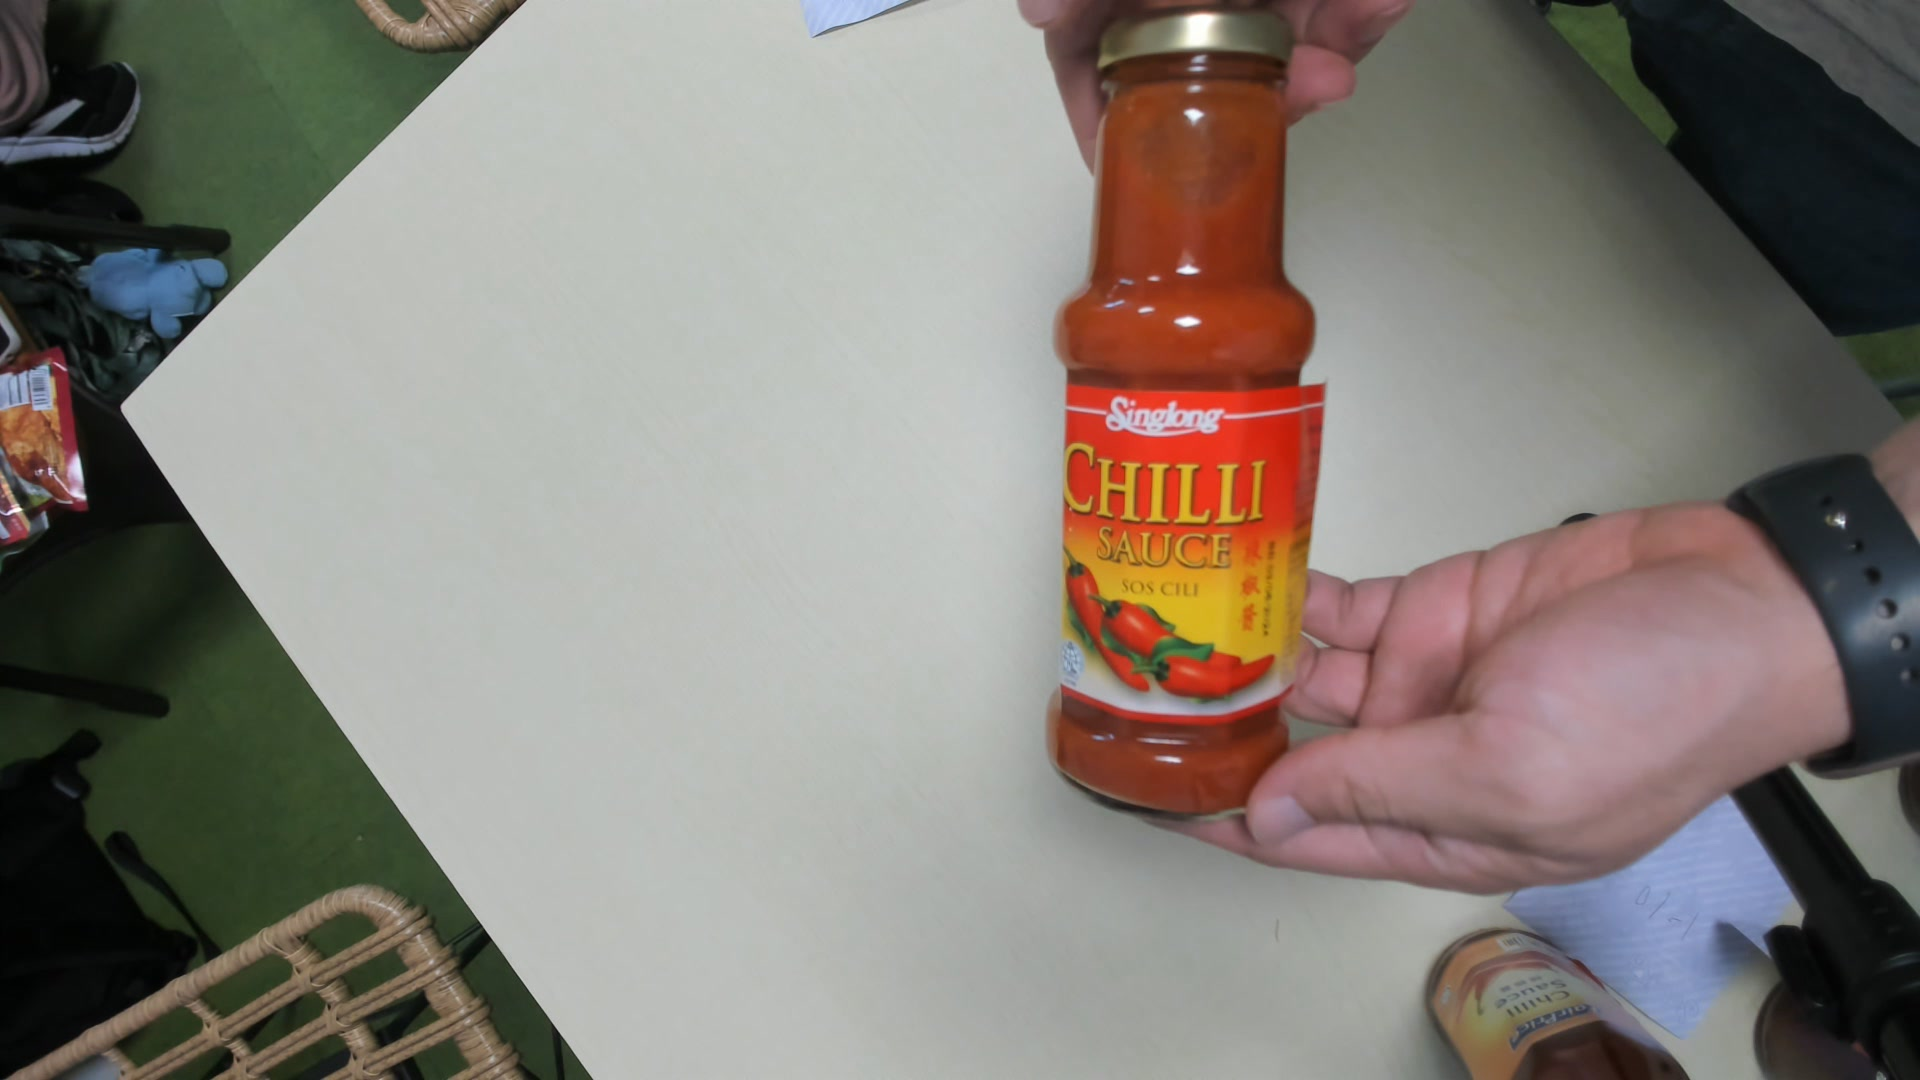KetchupChillSauce_200-299g_Halal_NonHealthy: (1040, 7, 1323, 832)
